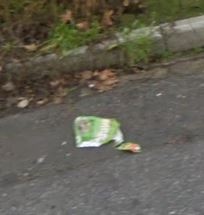trash: (66, 109, 151, 161)
